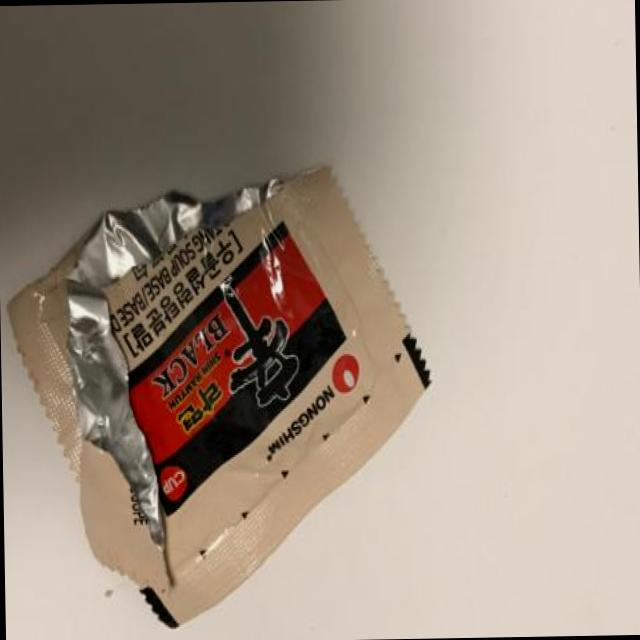giay_goi: (6, 168, 429, 628)
